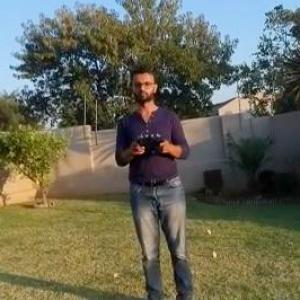follow: (110, 54, 198, 299)
